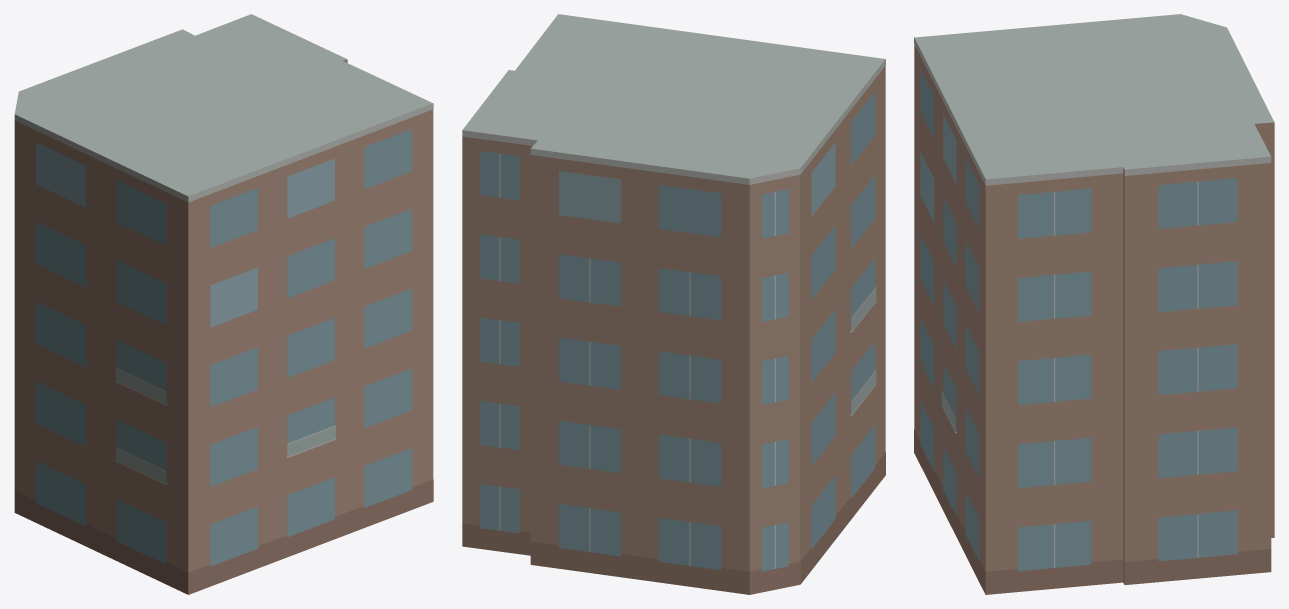
The model's file is survey-upis-32858314.glb.
3 views of the same model, side by side, from view 1: azimuth 30°, elevation 25°; view 2: azimuth 150°, elevation 25°; view 3: azimuth 270°, elevation 25° (orthographic). The views are drawn at different scales.
Parts seen in each view (by area): view 1: survey-upis-32858314.tmp; view 2: survey-upis-32858314.tmp; view 3: survey-upis-32858314.tmp.
Part boxes in pixels (x1,y1,x2,y2): survey-upis-32858314.tmp: (14,14,433,594); survey-upis-32858314.tmp: (462,14,885,594); survey-upis-32858314.tmp: (914,14,1274,594).
Bounding box in the file's own units: 13.9 × 16.25 × 12.79.
